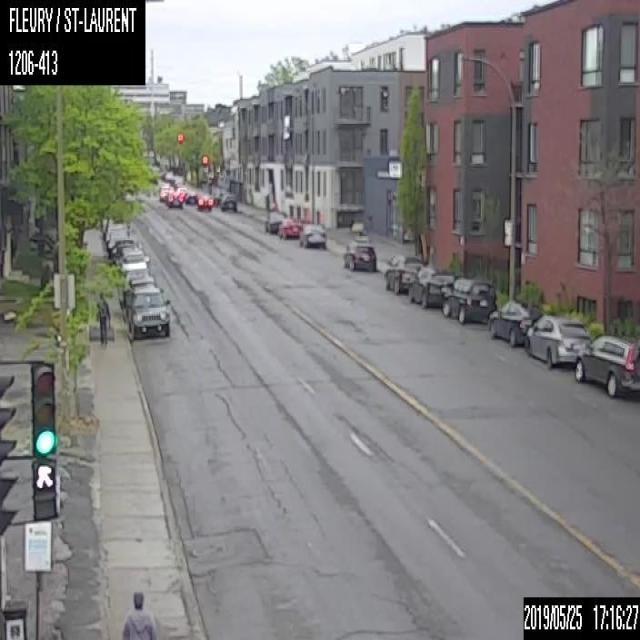pedestrian: (118, 586, 156, 638), (94, 301, 111, 344)
vehicle: (574, 334, 639, 398), (526, 314, 590, 370), (442, 276, 496, 324), (488, 300, 544, 346), (126, 285, 170, 339), (408, 266, 454, 307), (383, 254, 423, 292), (342, 237, 376, 271), (119, 248, 149, 275), (299, 224, 327, 247), (278, 217, 301, 238), (263, 211, 284, 232), (220, 192, 237, 212), (196, 192, 212, 210), (166, 190, 182, 207), (159, 186, 171, 200), (184, 192, 197, 203)
